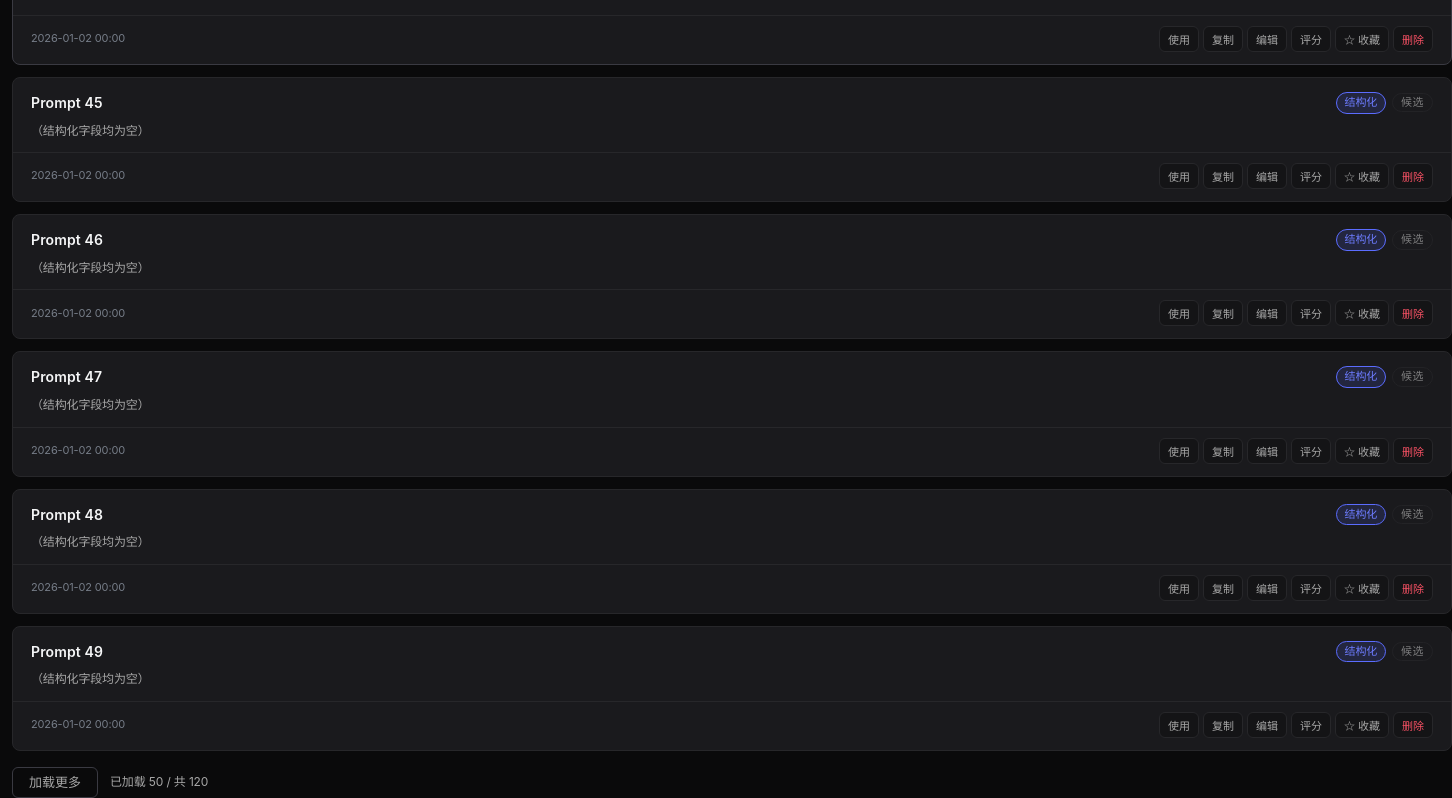
PromptTab offset 分页（越过后端默认 50） › 加载更多可依次取回 offset=50 / 100，直到 120 条全部可达
The width and height of the screenshot is (1452, 798).
(page scrolled)
What coordinates should you click on to do the following:
click the button "加载更多"
I would click on:
 (55, 782)
Its box is [12,767,98,797].
(page scrolled)
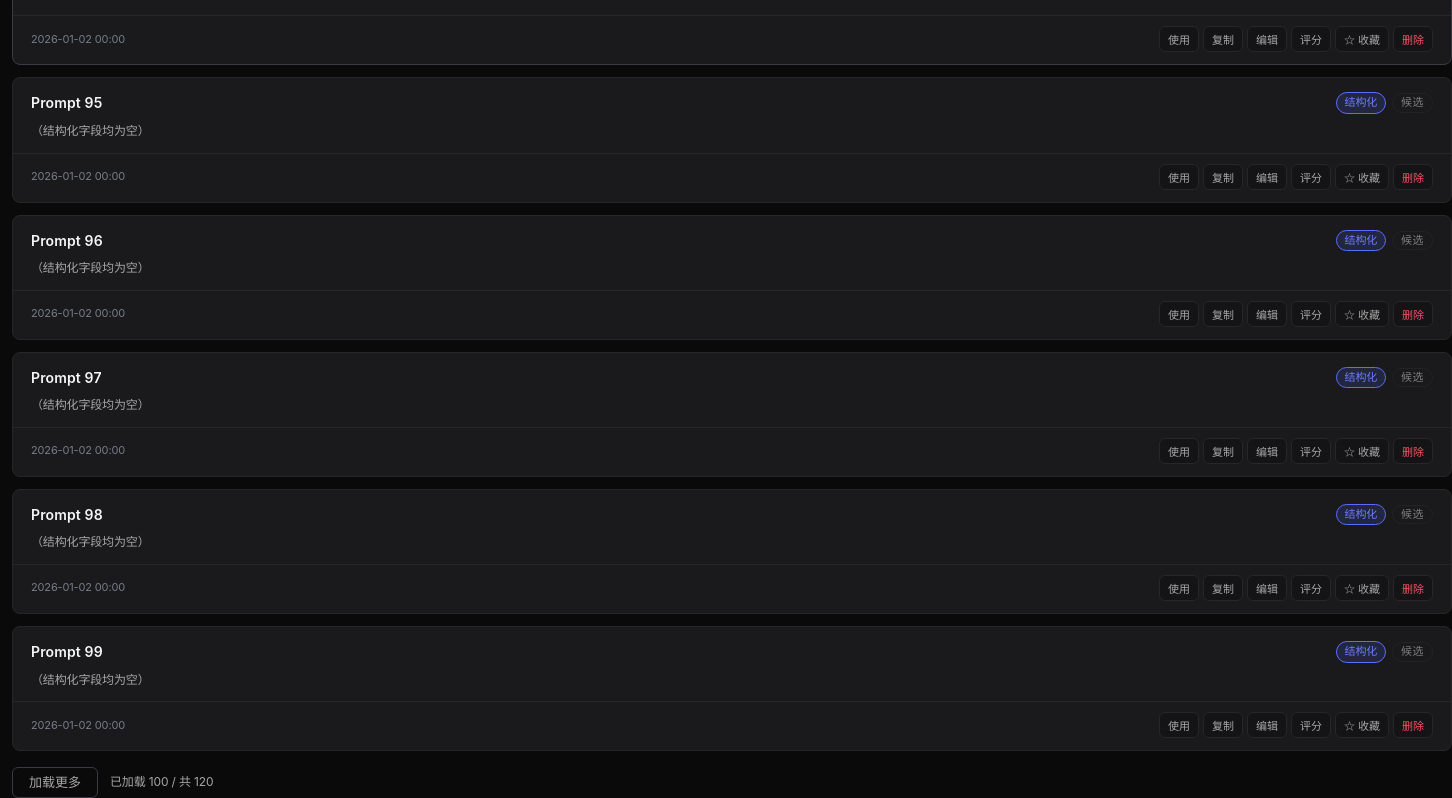
What coordinates should you click on to do the following:
click the button "加载更多"
I would click on:
 (55, 783)
Its box is [12,767,98,797].
(page scrolled)
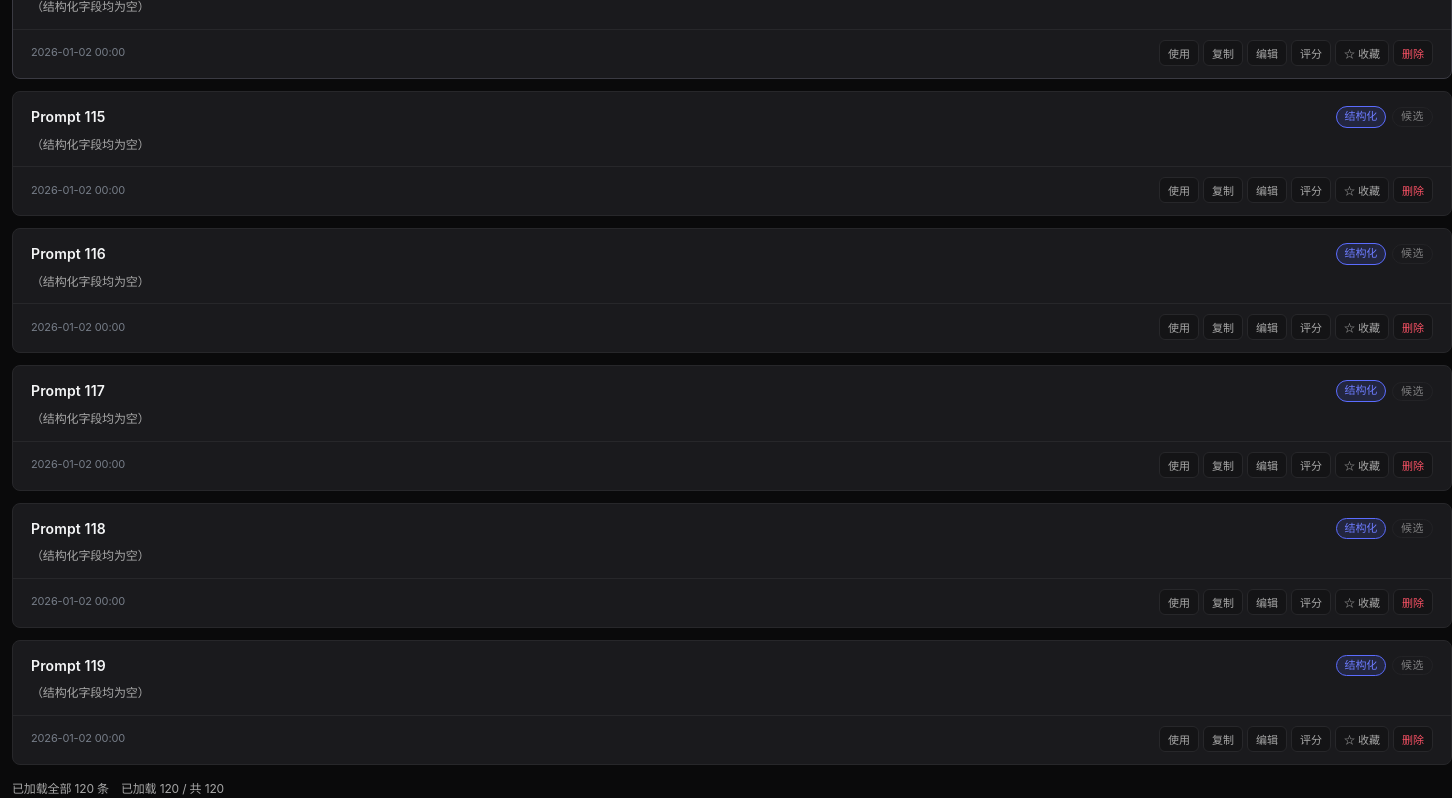
Check: the text "已加载全部 120 条" is shown, box [12,781,109,797]
Check: the button "加载更多" is gone
